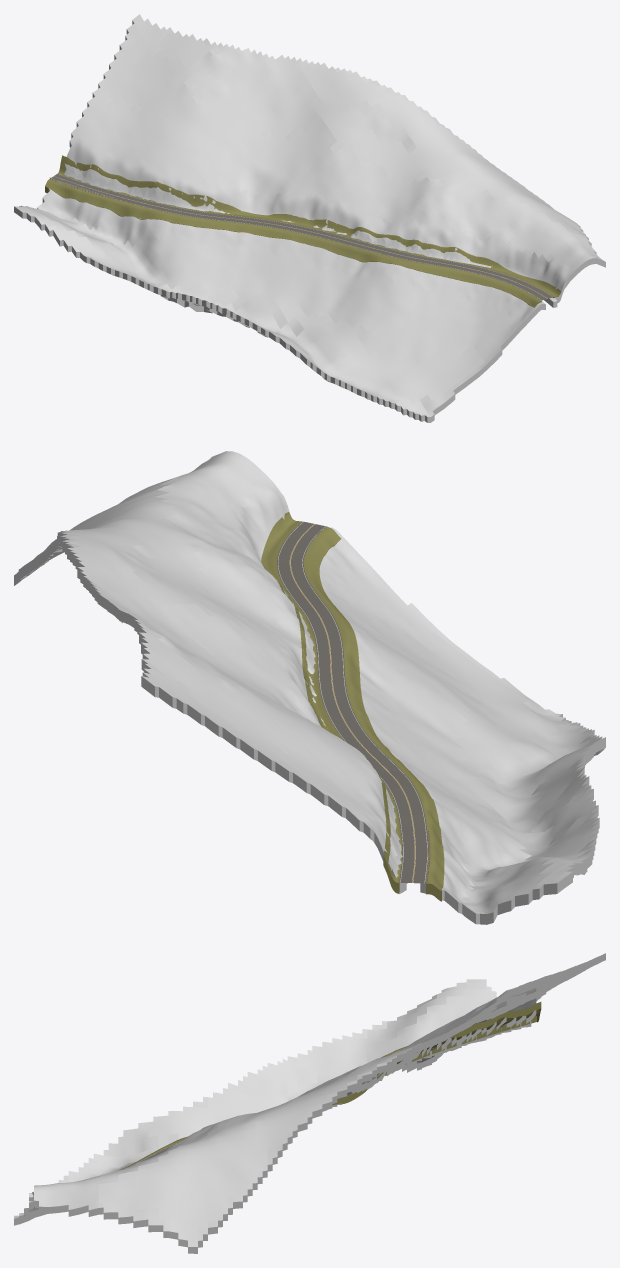
The model's file is conz_176.glb.
The picture shows the model from 3 angles, top to bottom: view 1: azimuth 30°, elevation 25°; view 2: azimuth 150°, elevation 25°; view 3: azimuth 270°, elevation 25°; orthographic projection. The views are drawn at different scales.
Visible parts, largest first — view 1: terrain176, verge176L, verge176R, road176; view 2: terrain176, road176, verge176L, verge176R, paint_white176, paint_yellow176; view 3: terrain176, verge176R.
Boxes of the visible parts, bbox=[...] form: terrain176: bbox=[14, 14, 605, 422]; verge176L: bbox=[45, 179, 541, 307]; verge176R: bbox=[58, 155, 560, 297]; road176: bbox=[50, 173, 553, 300]; terrain176: bbox=[14, 451, 605, 924]; road176: bbox=[277, 521, 428, 883]; verge176L: bbox=[303, 526, 444, 901]; verge176R: bbox=[261, 512, 402, 893]; paint_white176: bbox=[278, 522, 427, 883]; paint_yellow176: bbox=[289, 524, 415, 882]; terrain176: bbox=[14, 953, 605, 1253]; verge176R: bbox=[34, 1002, 541, 1208].
Size of the model in its own units: 226 by 113 by 238.
